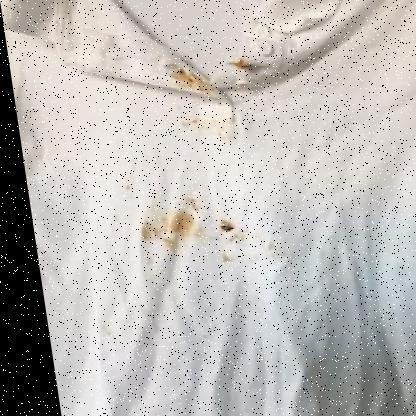coffee: (171, 211, 194, 234), (175, 72, 200, 85)
